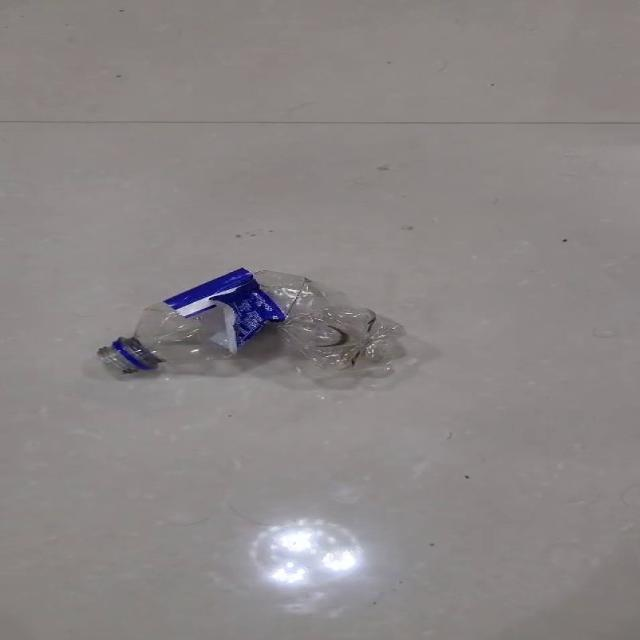plastic: (96, 267, 407, 377)
